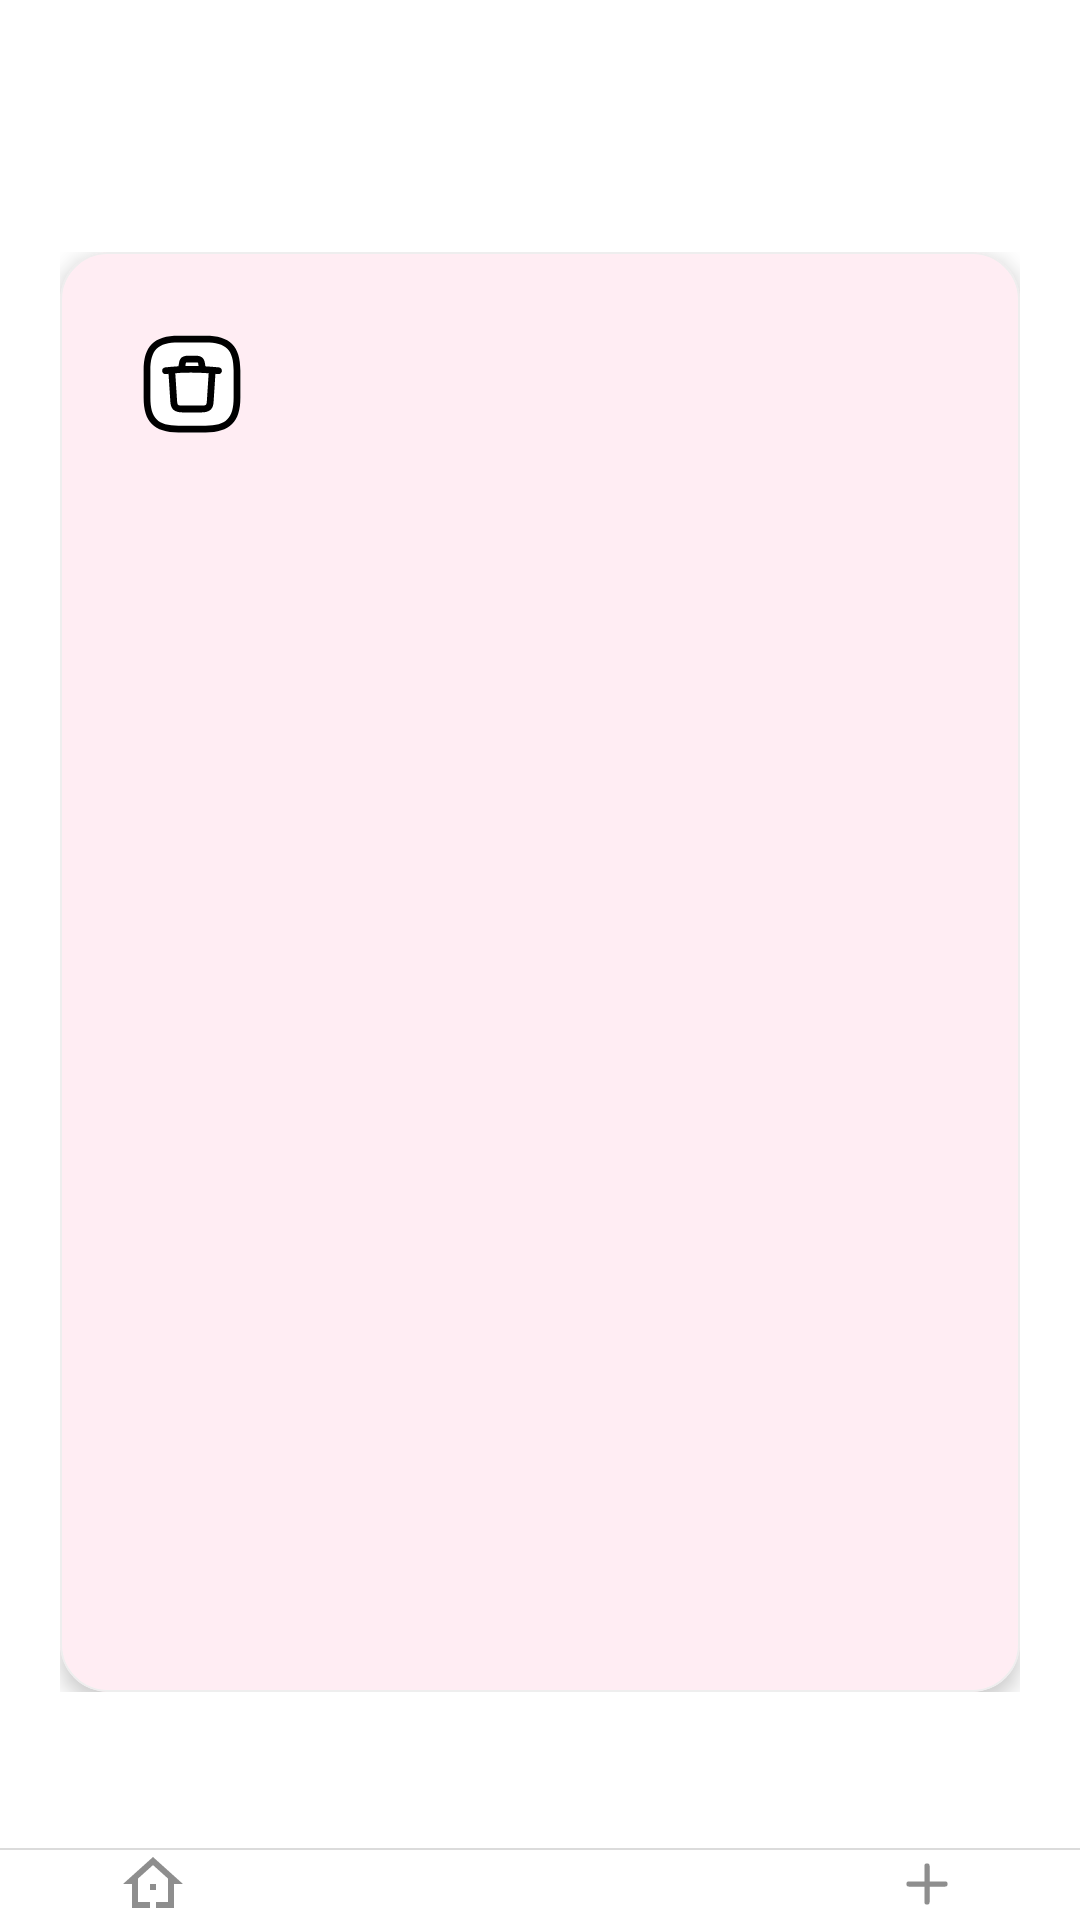

Screen size 1080 x 1920. Icon name, then its center in pixels as [x,y]:
Delete outfit: [192,384]
MY FEED: [153,1882]
